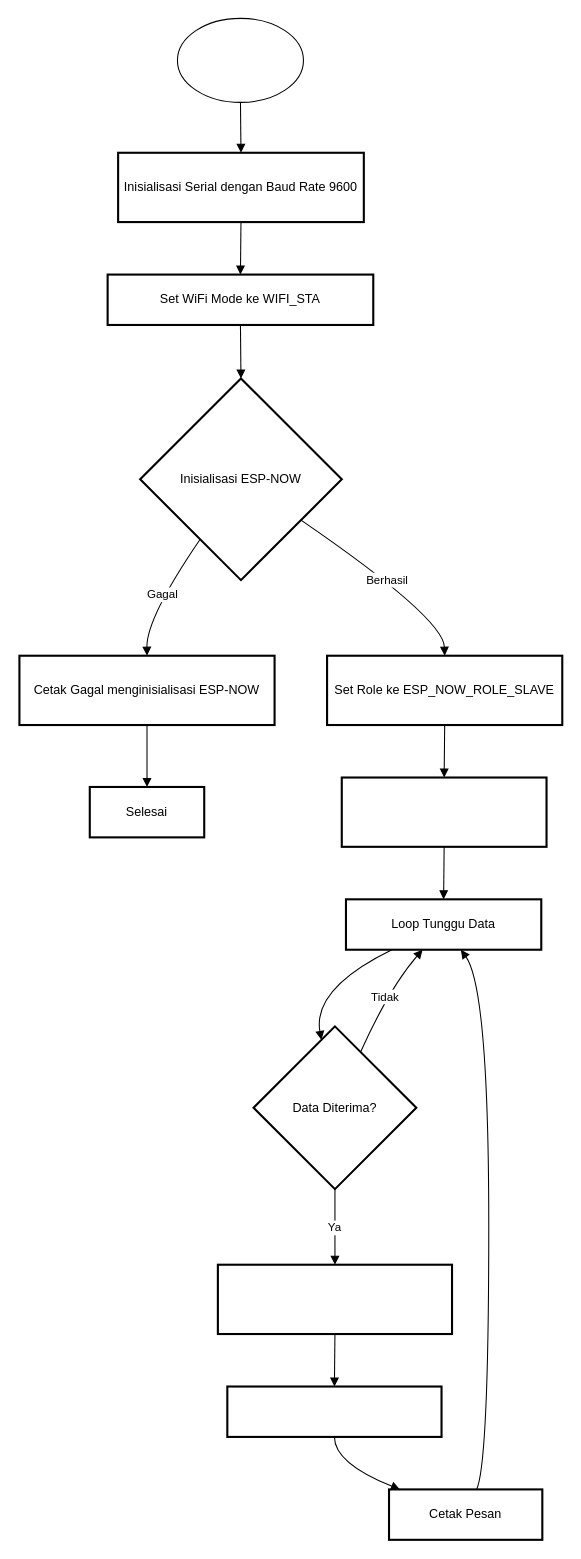
Some shapes in this 581 by 1559 pixel diagram are drawn without their labels. The centre of each missing label's shape, as x and y in pixels:
Mulai: the point at 239,59
Registrasi Callback onDataRecv: the point at 443,811
Salin Data ke Buffer: the point at 334,1411
Tampilkan Alamat MAC Pengirim: the point at 334,1299
